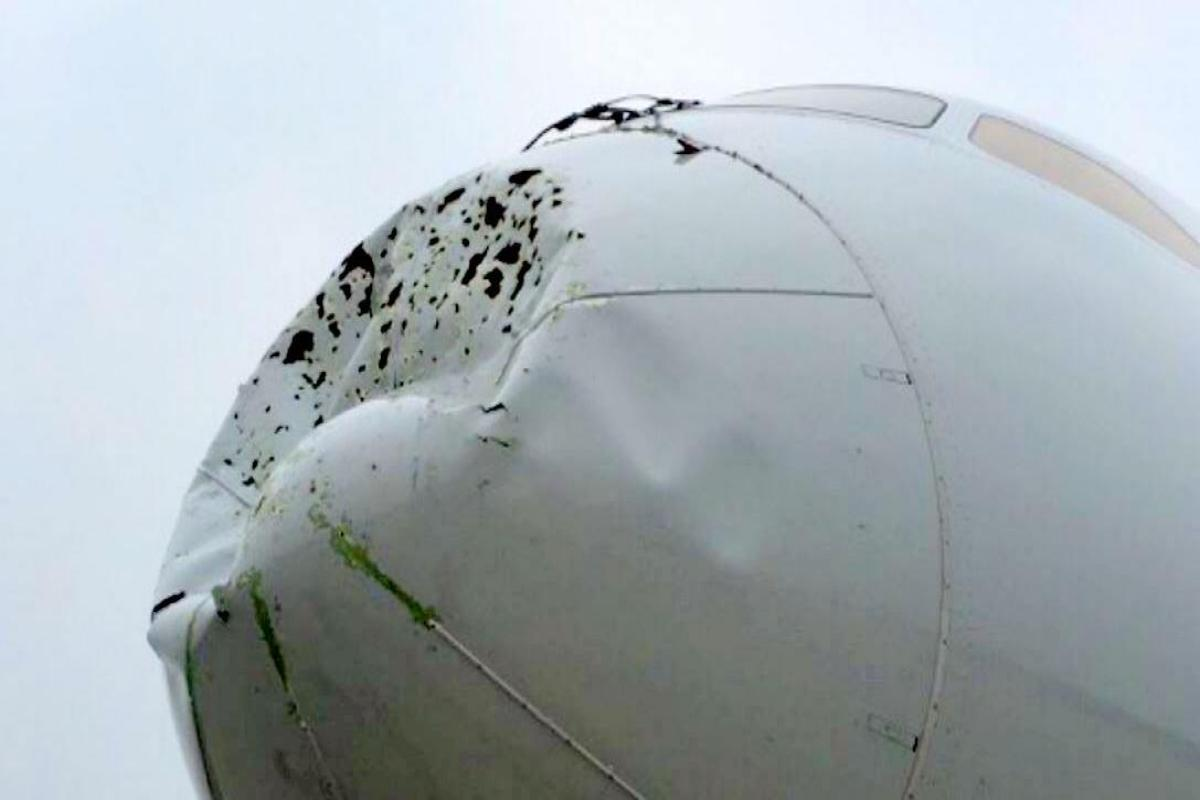Fuselage_damage: (143, 159, 711, 799)
